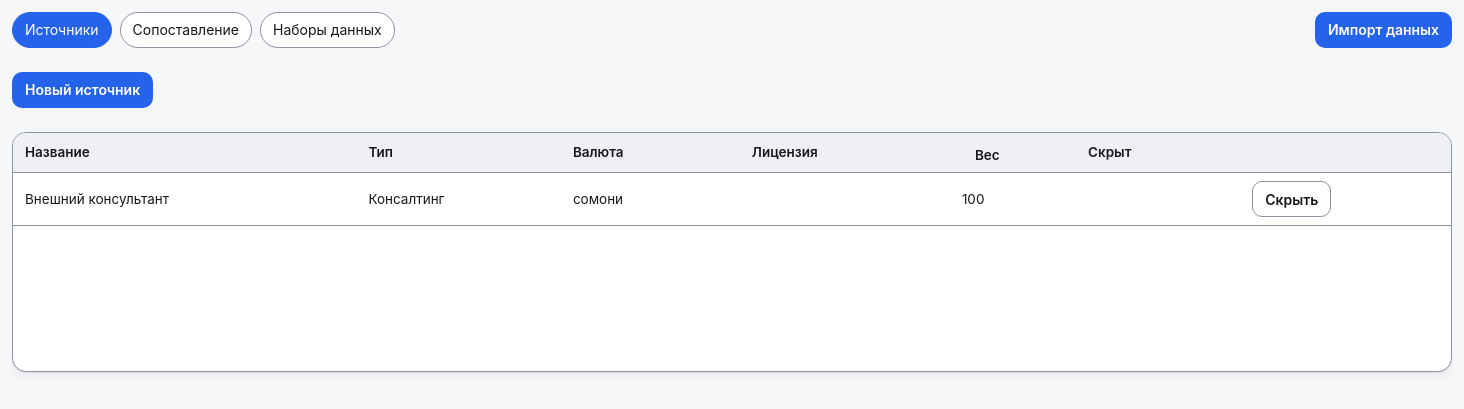
Test: вкладки переключаются: источники, сопоставление, наборы данных
Click the button "Сопоставление". click: {"x": 186, "y": 30}
box: [120,12,252,48]
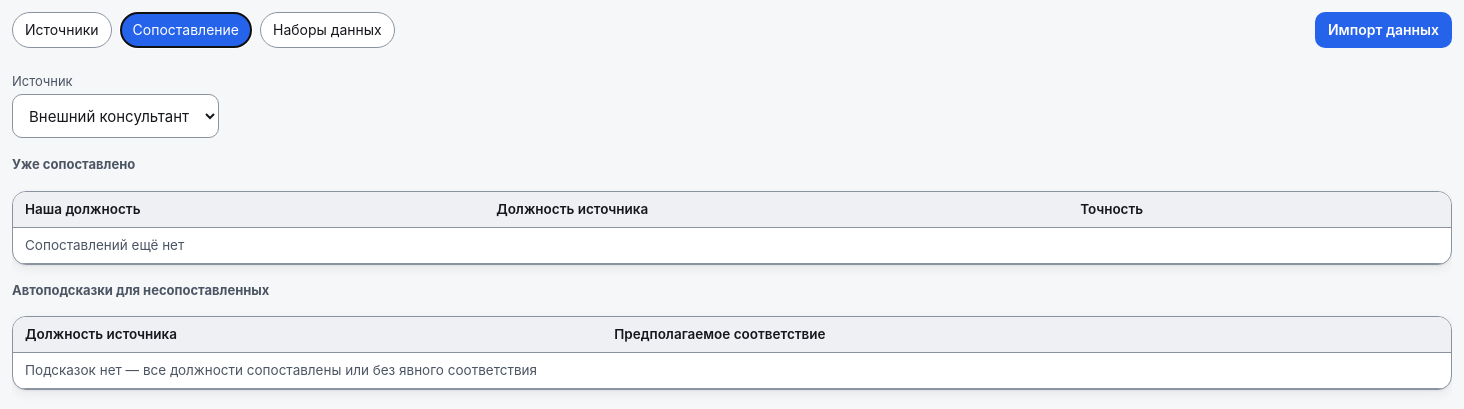
Now the text "Сопоставлений ещё нет" is shown, box [13,227,1451,263]
Click the button "Наборы данных". click: {"x": 327, "y": 30}
box: [260,12,395,48]
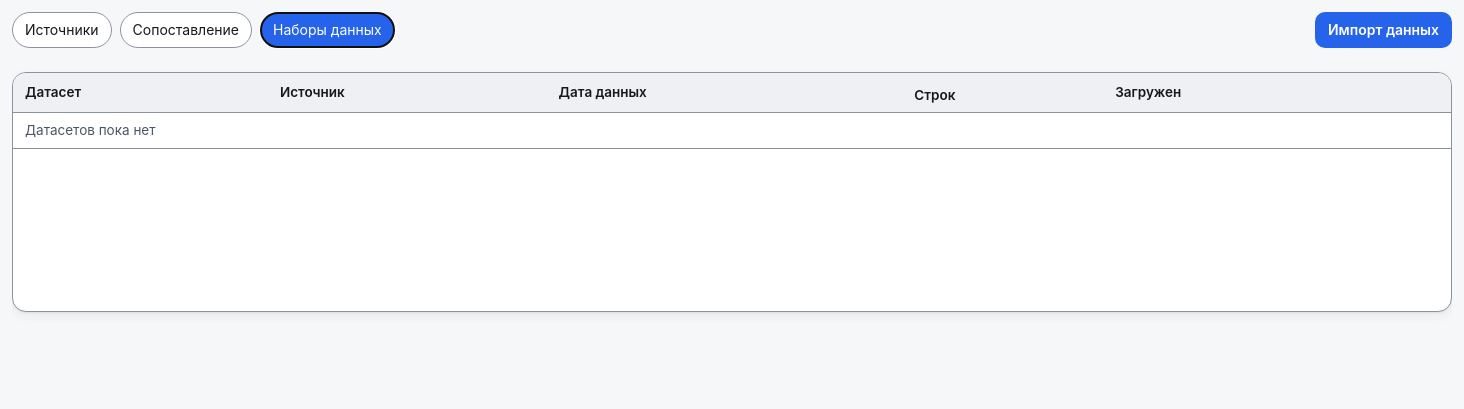
Now the text "Датасетов пока нет" is shown, box [13,113,1451,149]
